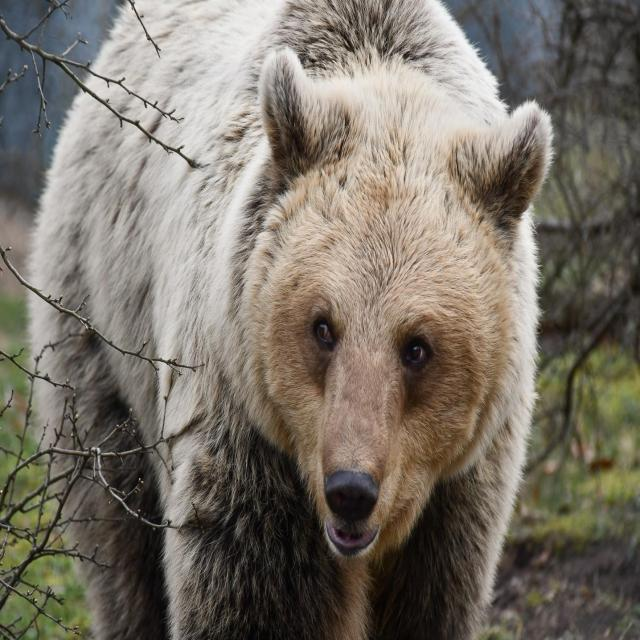Bear: (27, 0, 555, 640)
